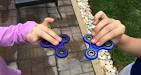fidget_kid_spinner_toys: (79, 26, 115, 60), (35, 28, 71, 58)
